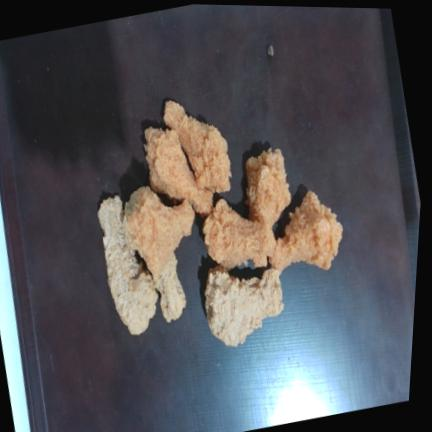chicken: (98, 195, 158, 334), (125, 187, 195, 282), (205, 266, 284, 346), (164, 101, 231, 192), (145, 127, 213, 215), (270, 191, 342, 272), (203, 198, 276, 269), (246, 148, 291, 229)
